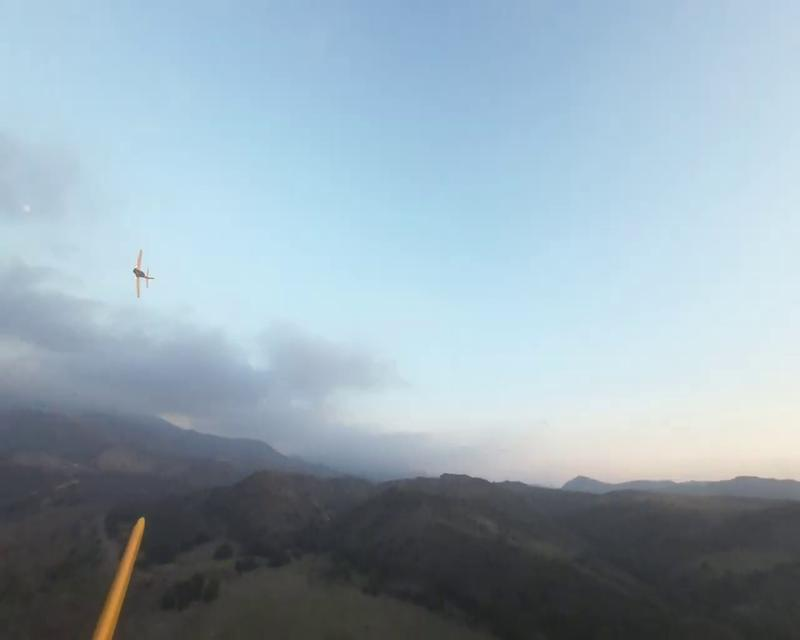UAV: (133, 250, 155, 299)
